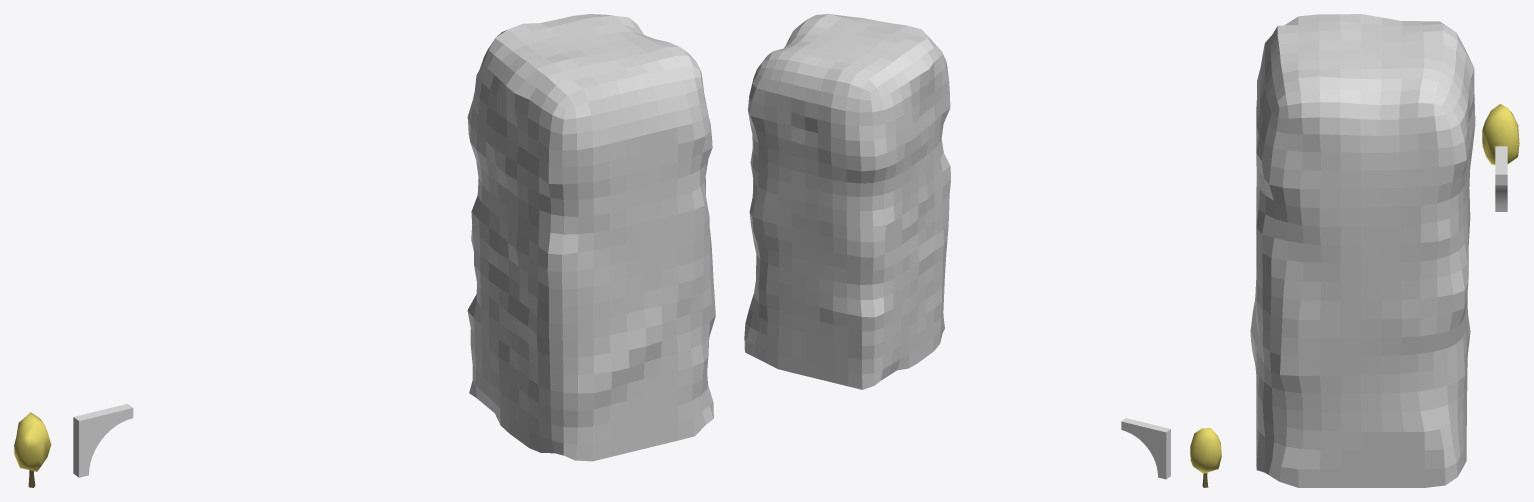
The picture shows the model from 3 angles, left to right: view 1: azimuth 30°, elevation 25°; view 2: azimuth 150°, elevation 25°; view 3: azimuth 270°, elevation 25°; orthographic projection. The views are drawn at different scales.
Visible parts, largest first — view 1: RockLarge, ArchHalf, Tree; view 2: RockLarge, ArchHalf, Tree; view 3: RockLarge, Tree, ArchHalf.
Boxes of the visible parts, box(x1,y1,x2,y2) form: RockLarge: box(467, 14, 715, 461); ArchHalf: box(73, 403, 133, 477); Tree: box(14, 412, 51, 487); RockLarge: box(744, 14, 950, 389); ArchHalf: box(1121, 418, 1170, 479); Tree: box(1190, 428, 1221, 487); RockLarge: box(1250, 14, 1475, 487); Tree: box(1482, 104, 1519, 164); ArchHalf: box(1495, 146, 1507, 211).
Bounding box in the file's own units: 1221207 × 717702 × 442073.
